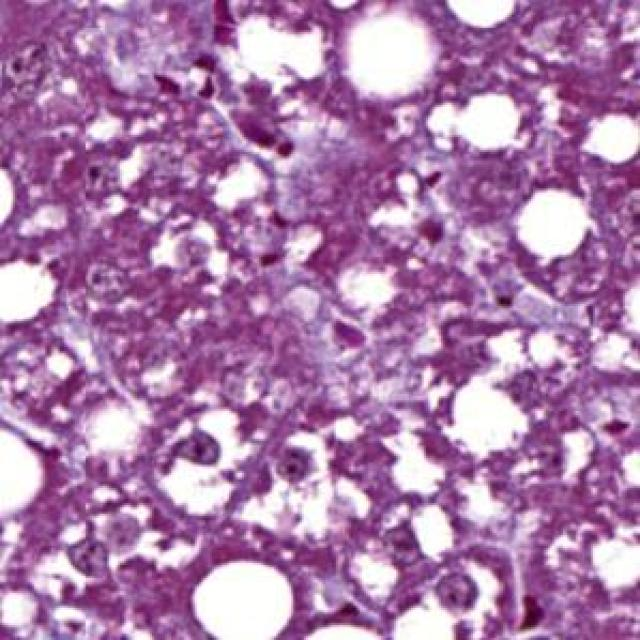steatosis: (512, 186, 597, 263)
